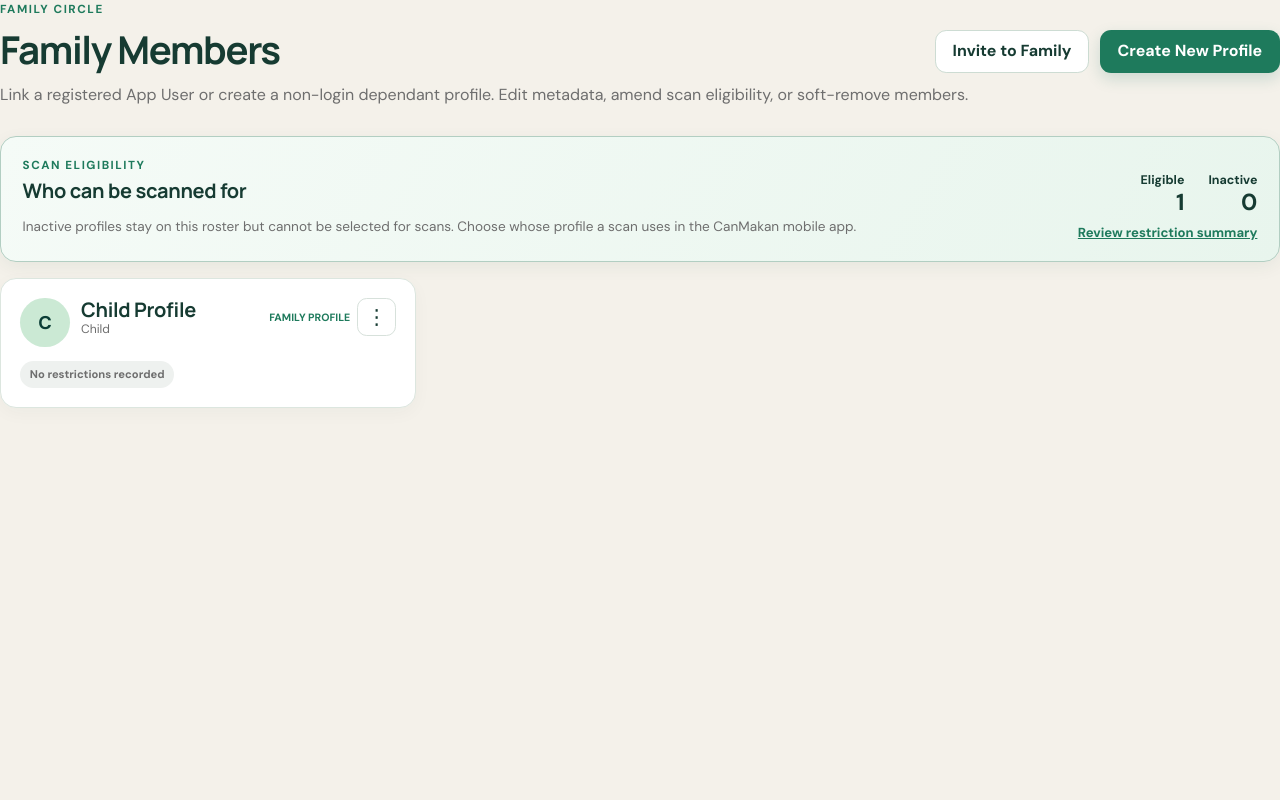
it: FamilyMembersPage › removes a dependant after confirm
Check: the heading "Child Profile" is shown, box x1=81 y1=296 x2=196 y2=323
Click the button named "Actions for Child Profile" at (377, 317), box x1=357 y1=298 x2=396 y2=336
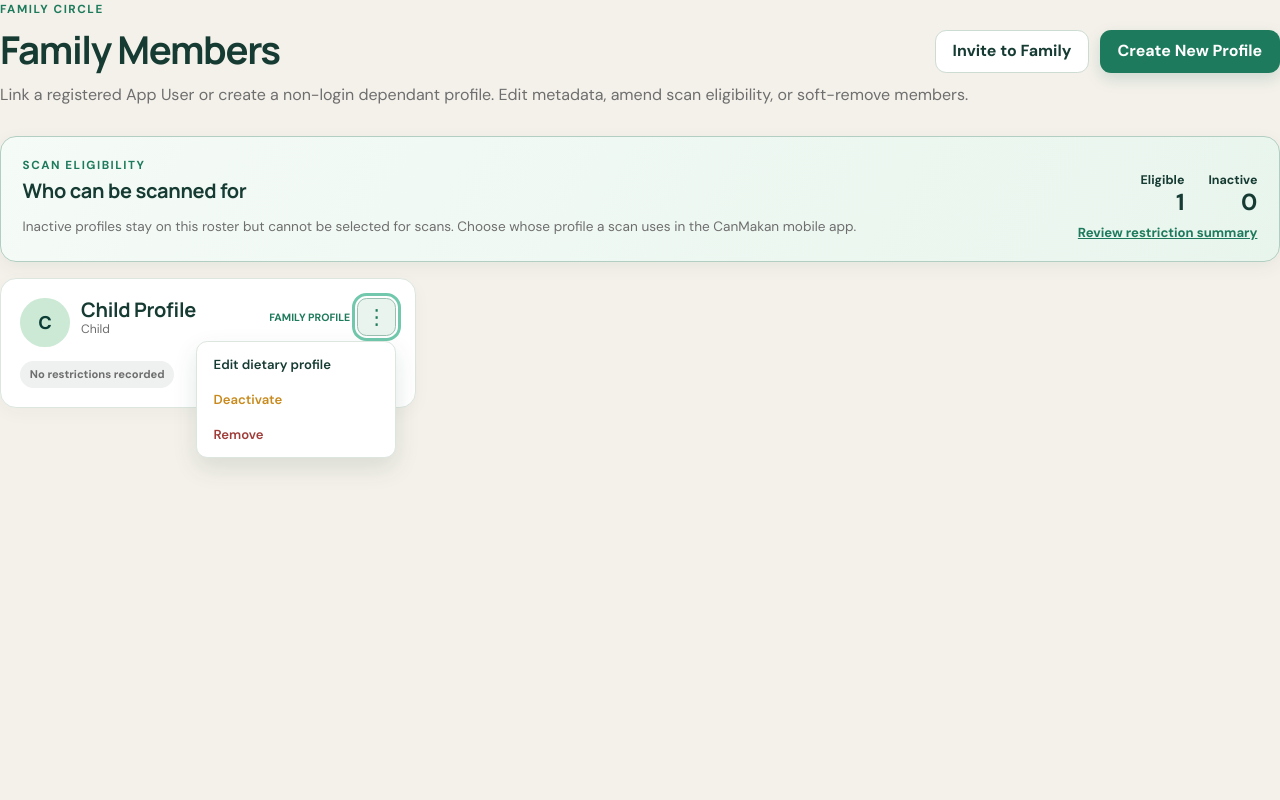
Click the menu item "Remove" at (296, 434), box x1=202 y1=417 x2=389 y2=451
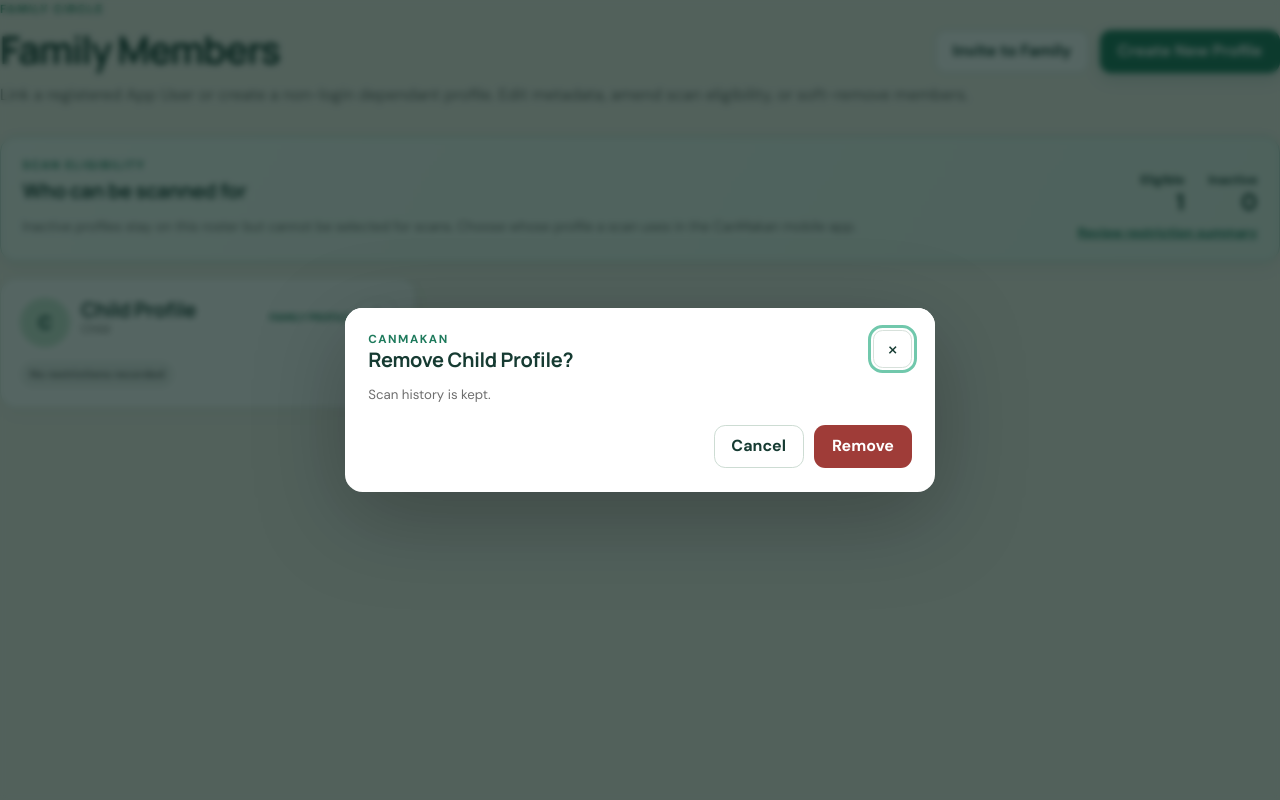
Check: the dialog "Remove Child Profile?" is shown, box x1=345 y1=308 x2=935 y2=492
Click the button "Remove" at (863, 446), box x1=814 y1=425 x2=912 y2=468
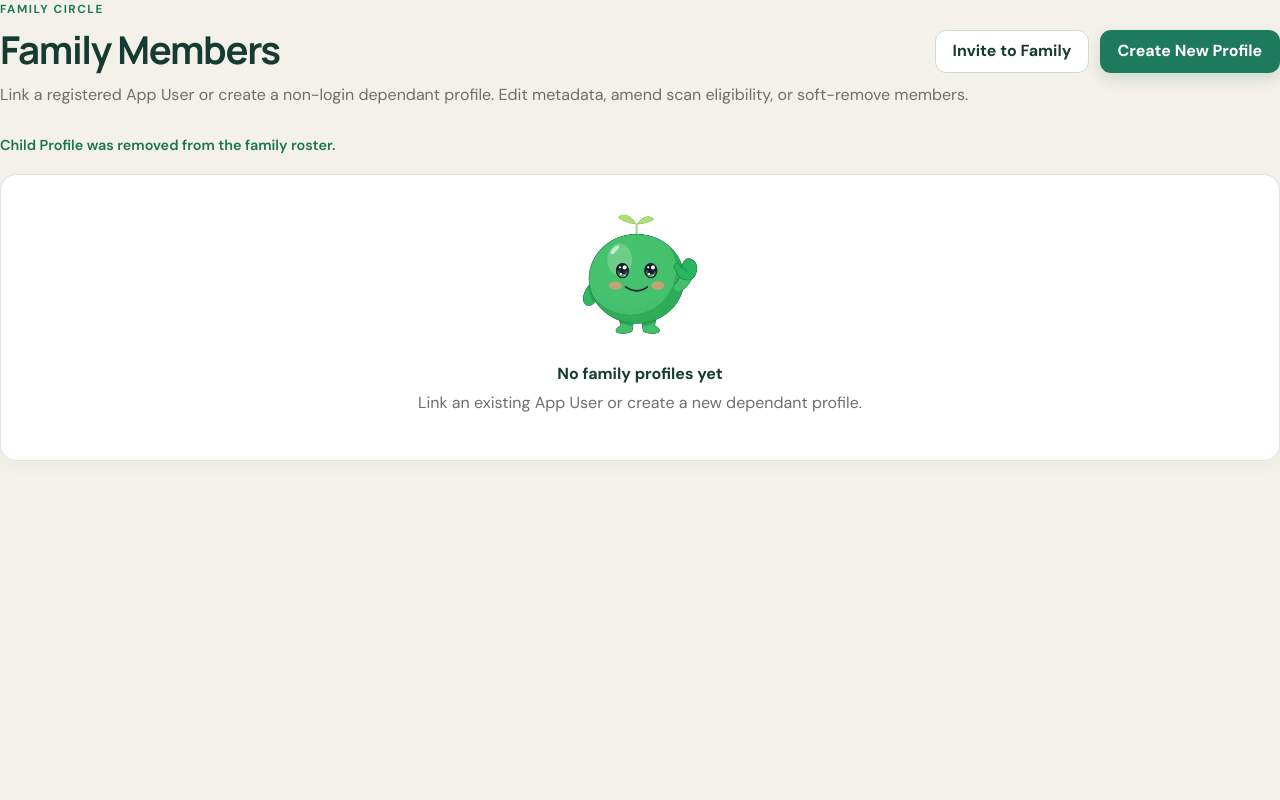
Check: the text "Child Profile was removed from the family roster." is shown, box x1=0 y1=136 x2=336 y2=154
